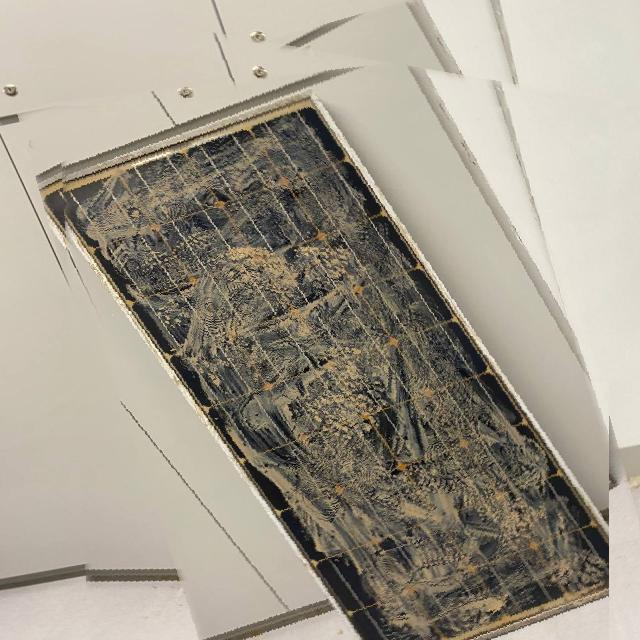Anomaly Solar Panel: (35, 96, 615, 639)
Surface Contaminant: (69, 112, 607, 639)
